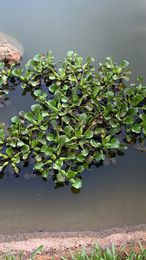water_hyacinth: (1, 53, 146, 189)
